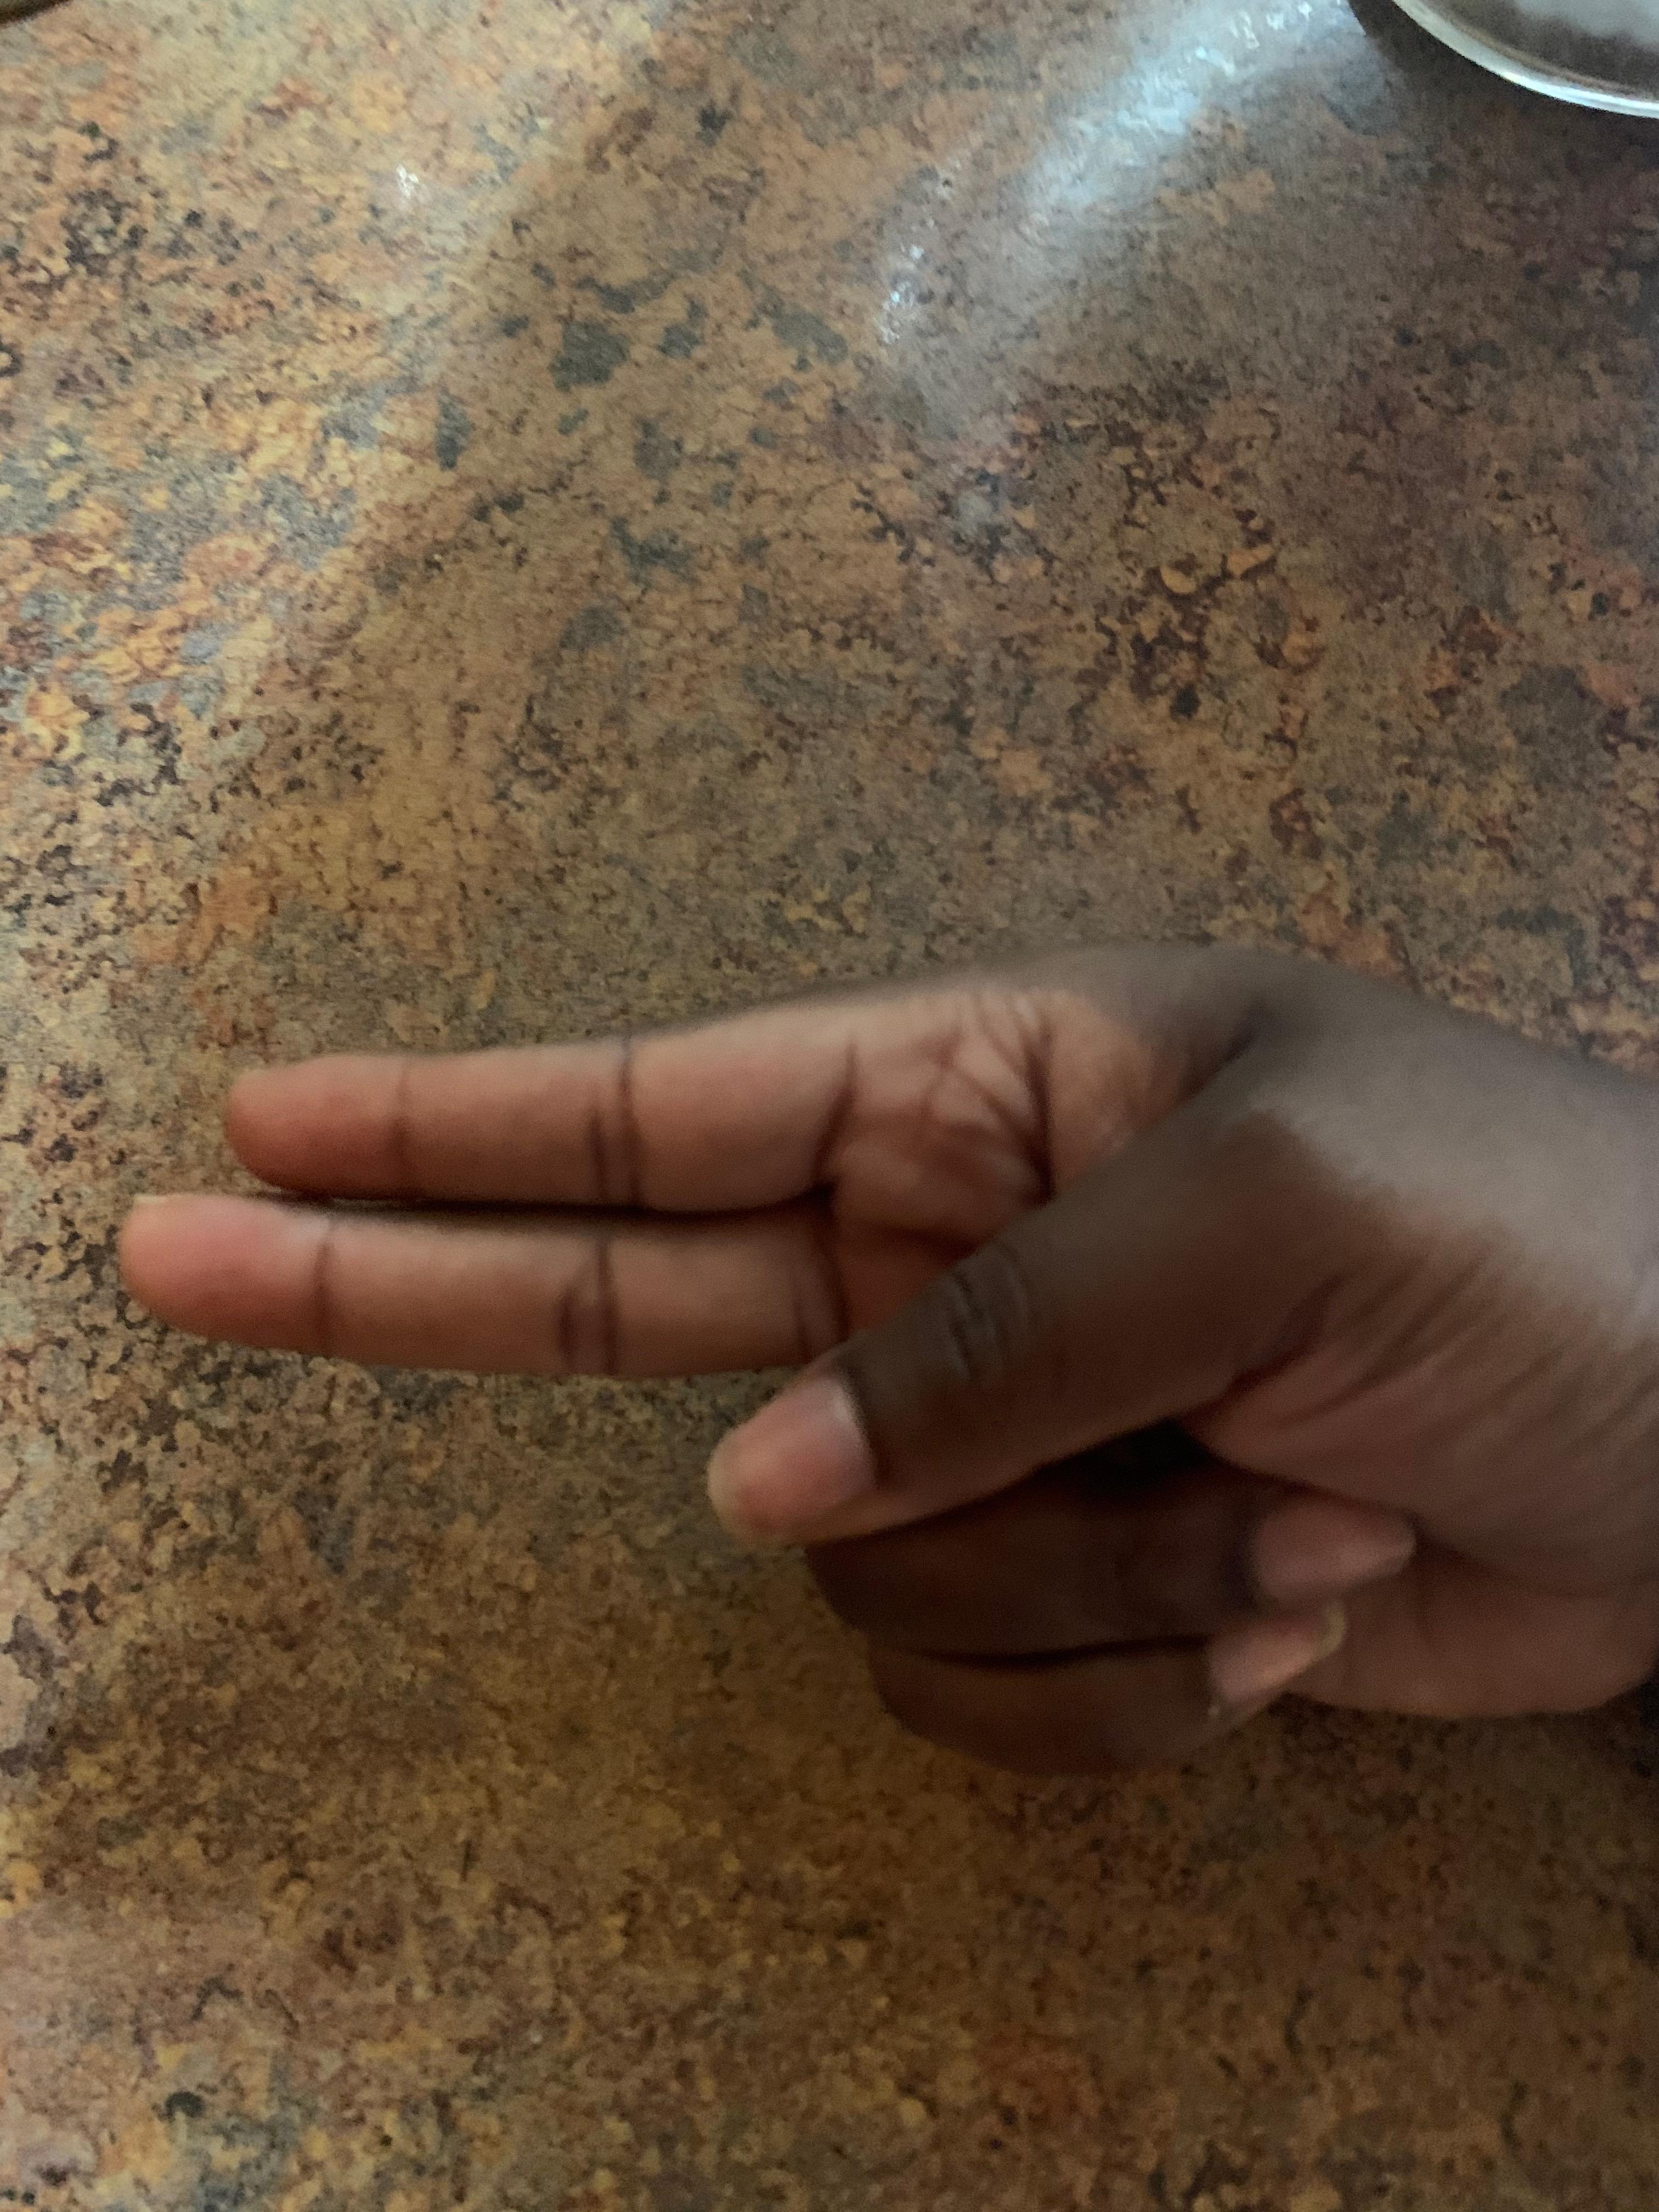H: (92, 916, 1659, 1803)
